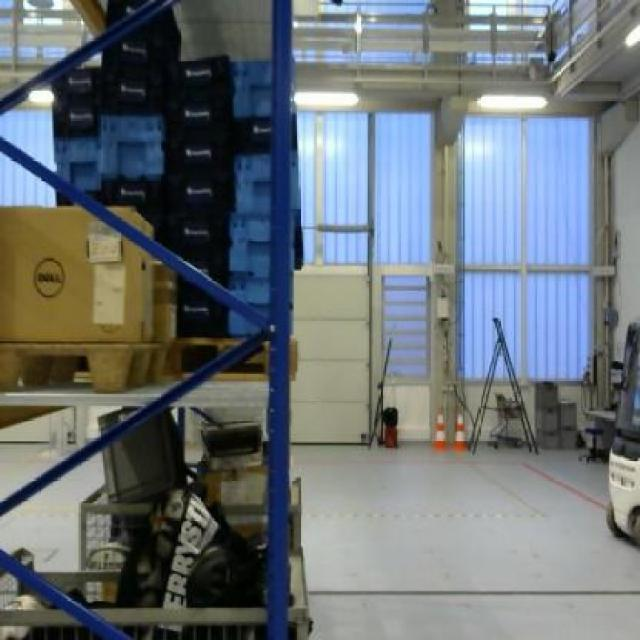box: (0, 205, 152, 342)
